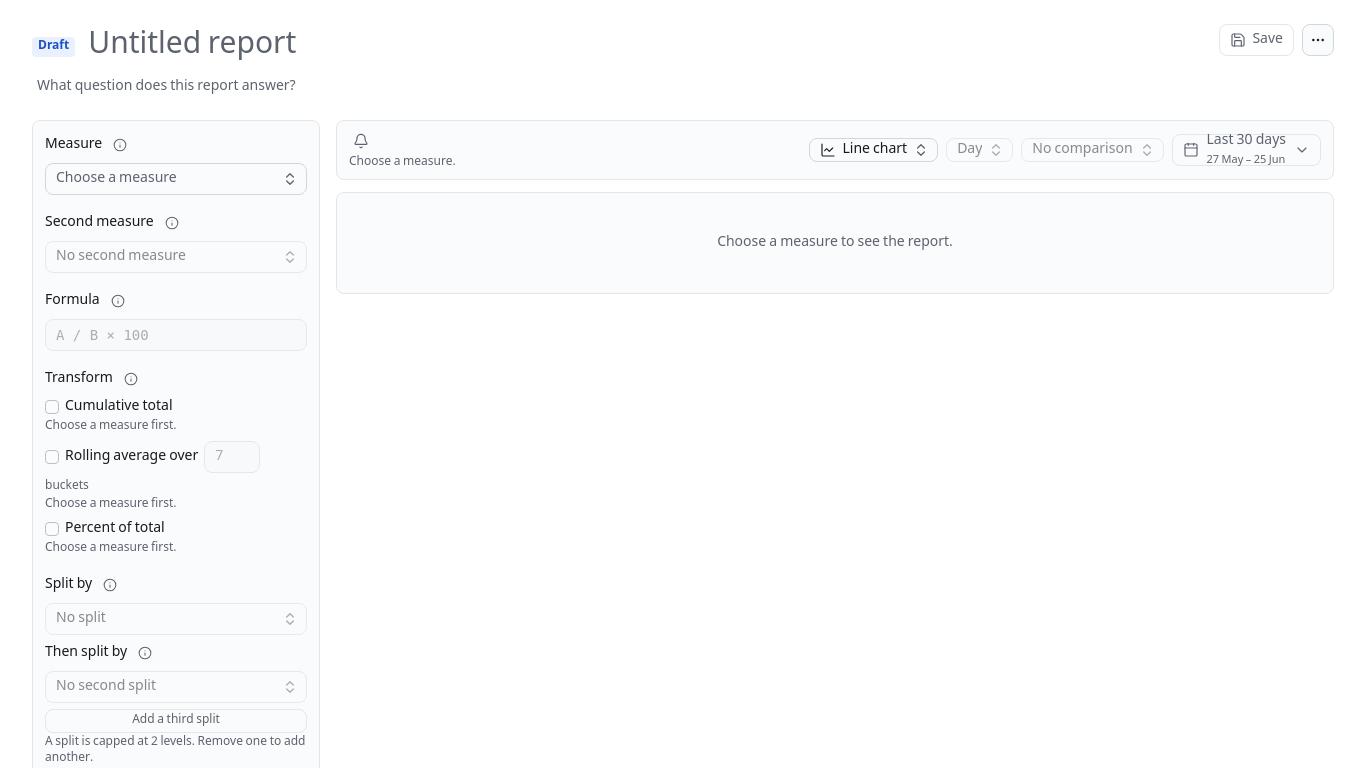
§A6 / D9 CQ-3 — an export this product cannot do is disabled with a reason › shows PNG and PDF off before anything has run, and states why PDF stays off
Step 1. Click the button named "More actions" → (1318, 40), box left=1302, top=24, right=1334, bottom=56
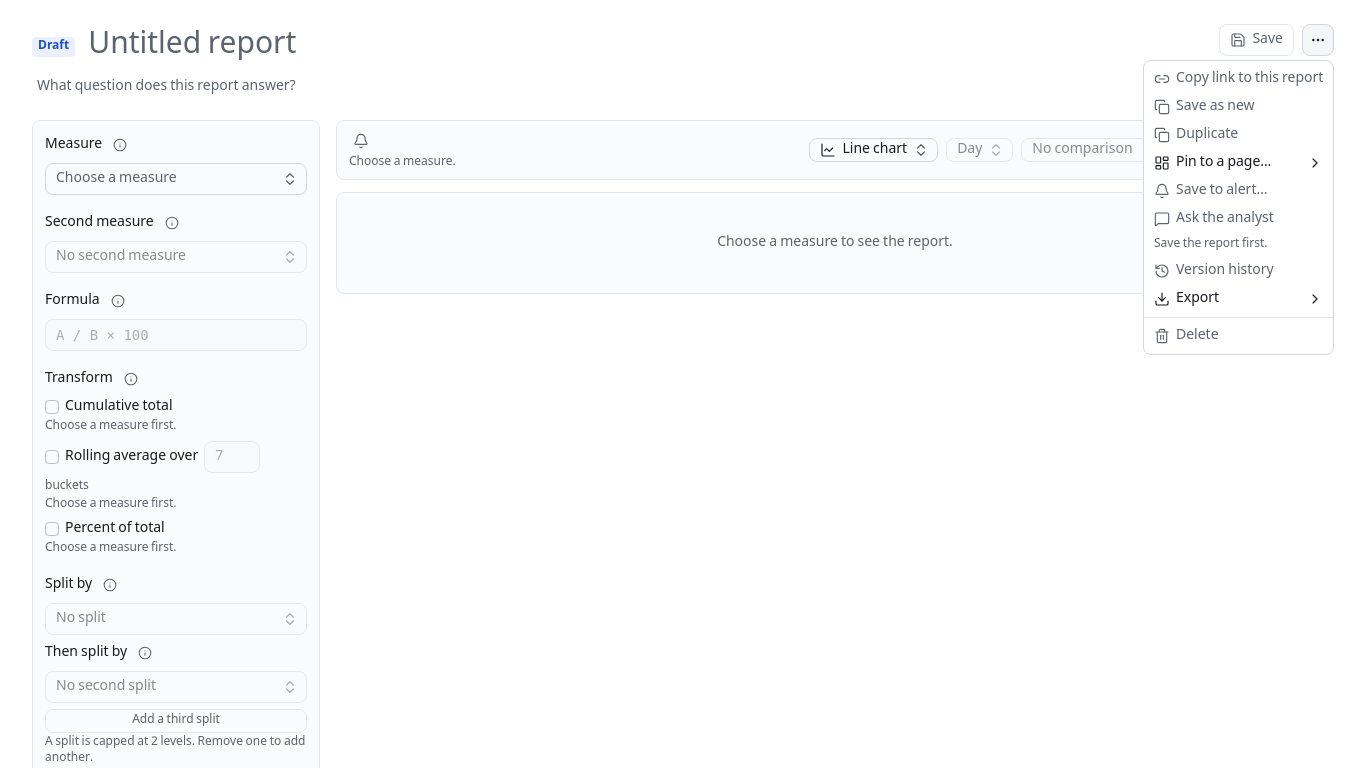
Step 2. Click the menu item "Export" → (1198, 299), box left=1148, top=285, right=1329, bottom=313
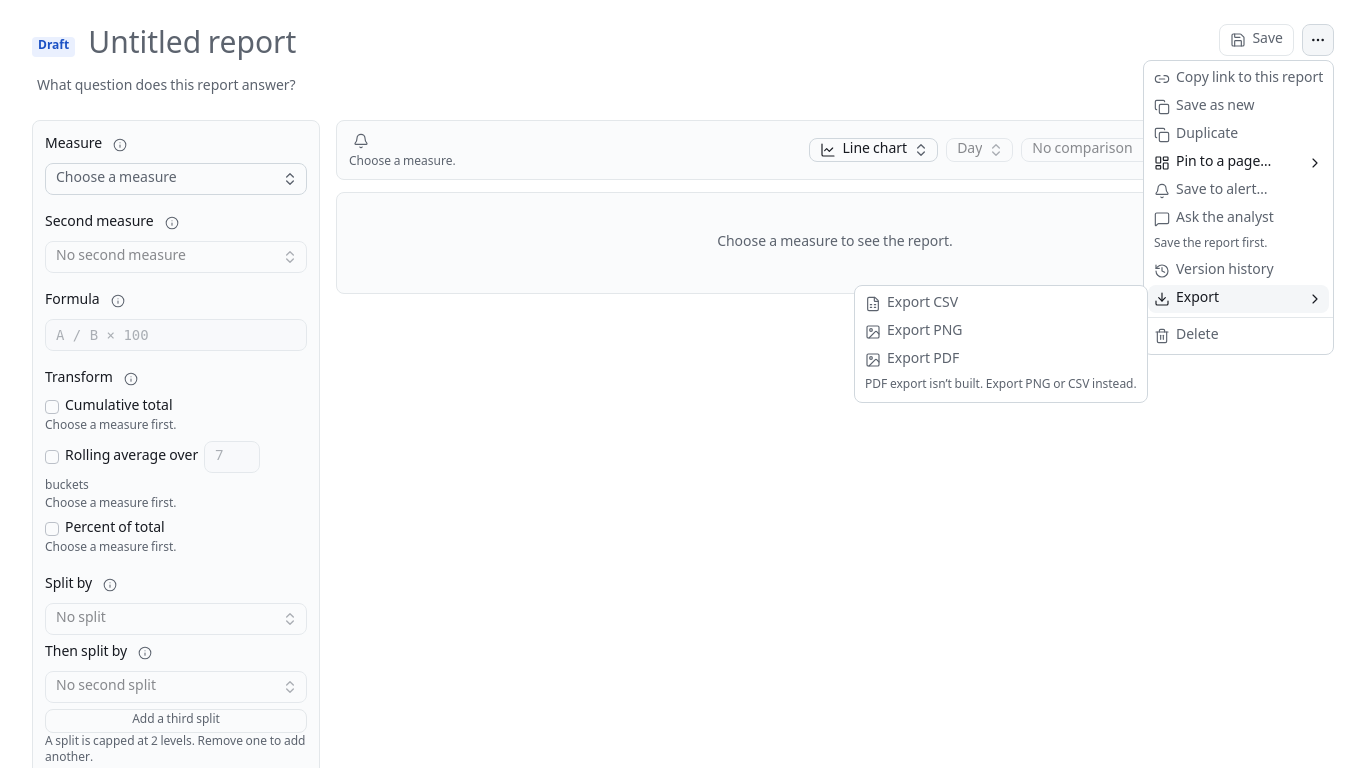
Now the text "PDF export isn’t built. Export PNG or CSV instead." is shown, box left=859, top=374, right=1143, bottom=398
